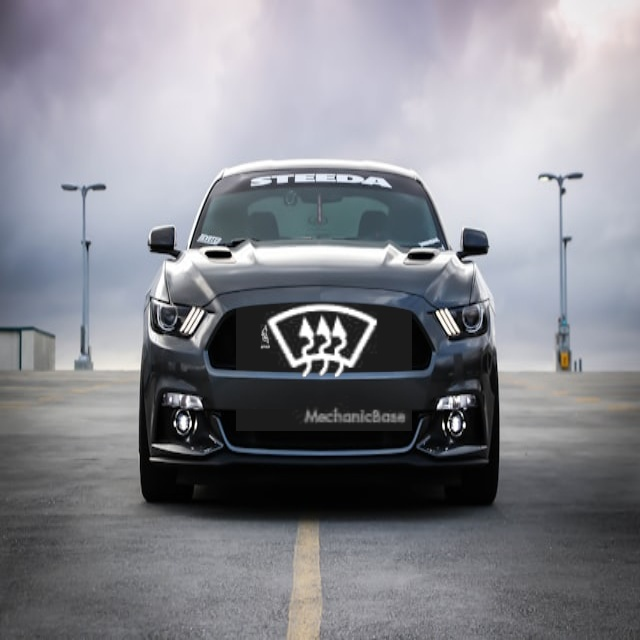symbol: (236, 255, 412, 431)
